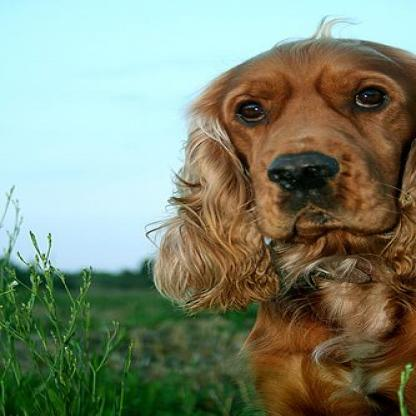cocker_spaniel: (142, 12, 413, 412)
